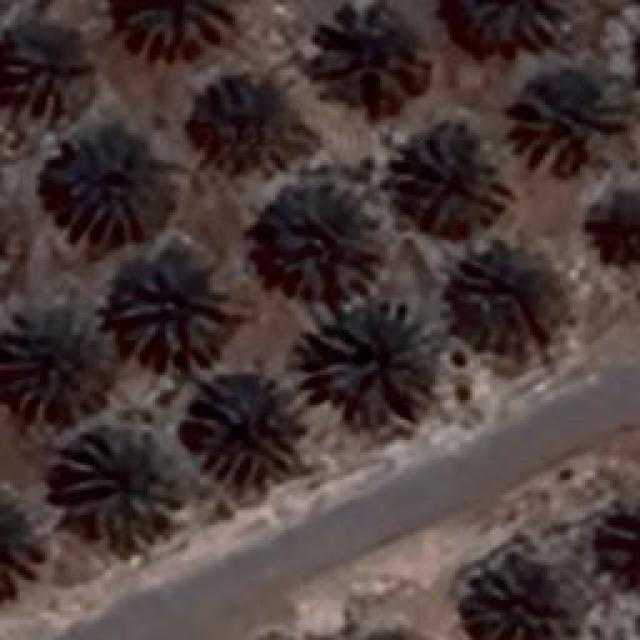PalmTree: (44, 100, 618, 544), (312, 295, 438, 423), (42, 123, 166, 240), (112, 255, 238, 368), (60, 430, 178, 545), (390, 122, 505, 235), (312, 0, 429, 102), (200, 71, 310, 179), (0, 310, 110, 415), (267, 200, 385, 295), (190, 382, 295, 488), (439, 252, 549, 352), (0, 24, 98, 118), (520, 65, 612, 155), (440, 0, 562, 55), (465, 570, 565, 635), (122, 0, 235, 55), (597, 186, 640, 286)
